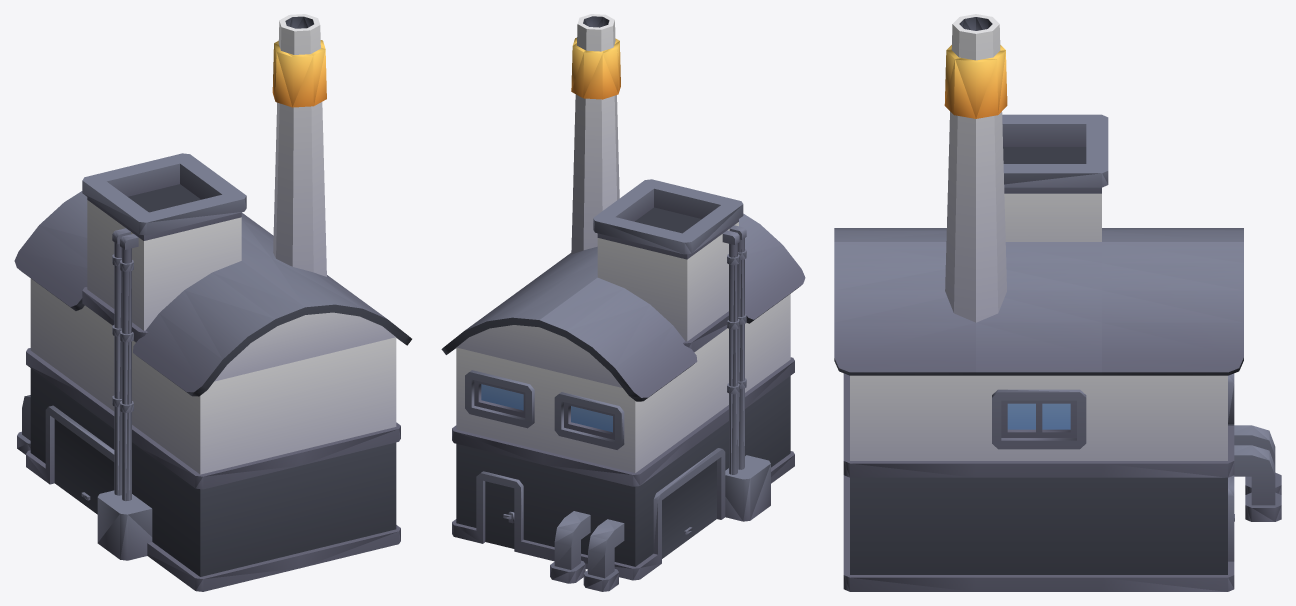
Rendered from ki_building_n.fbx.
3 views of the same model, side by side, from view 1: azimuth 30°, elevation 25°; view 2: azimuth 150°, elevation 25°; view 3: azimuth 270°, elevation 25° (orthographic). The views are drawn at different scales.
Parts seen in each view (by area): view 1: ki_building_n_LOD0; view 2: ki_building_n_LOD0; view 3: ki_building_n_LOD0.
Boxes of the visible parts, x1=… form: ki_building_n_LOD0: x1=14, y1=14, x2=411, y2=591; ki_building_n_LOD0: x1=441, y1=14, x2=805, y2=591; ki_building_n_LOD0: x1=834, y1=14, x2=1281, y2=591.
Size of what is drawn, in the model's own units: 8.3 by 16.19 by 12.07.
